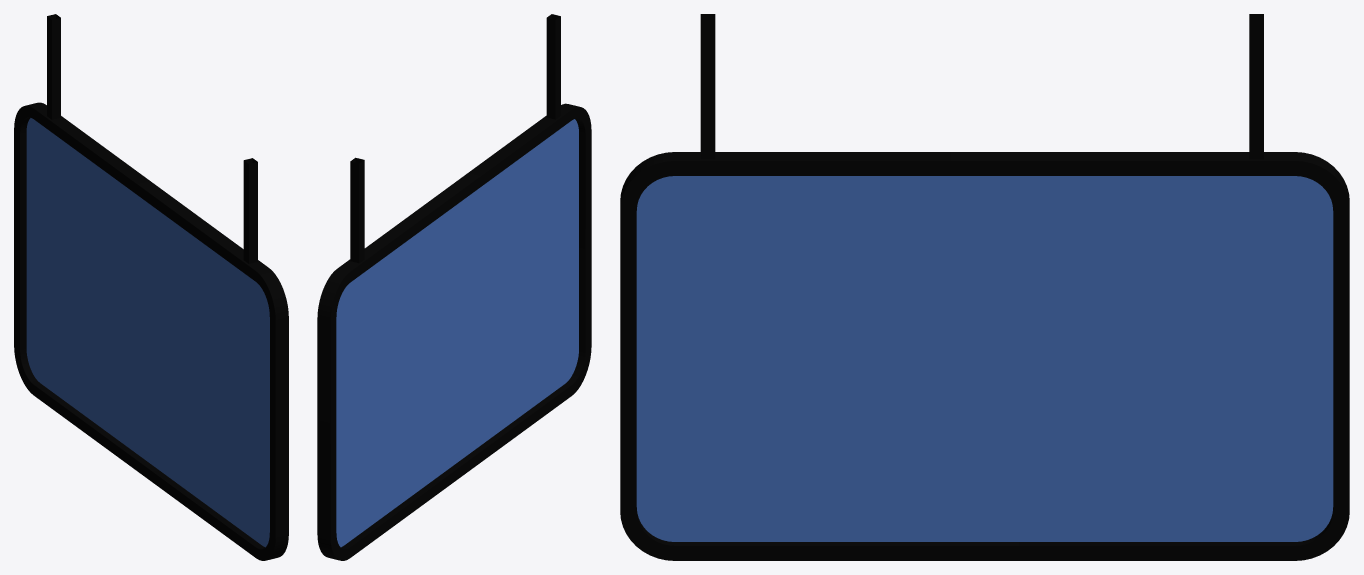
File: panel_small.FBX
3 views of the same model, side by side, from view 1: azimuth 30°, elevation 25°; view 2: azimuth 150°, elevation 25°; view 3: azimuth 270°, elevation 25° (orthographic). The views are drawn at different scales.
Visible parts, largest first — view 1: panel_small; view 2: panel_small; view 3: panel_small.
Part boxes in pixels (box(x1,y1,x2,y2)): panel_small: box(14, 14, 288, 560); panel_small: box(317, 14, 591, 560); panel_small: box(620, 14, 1349, 560).
Size of the model in its own units: 0.4776 by 13.47 by 16.51.
